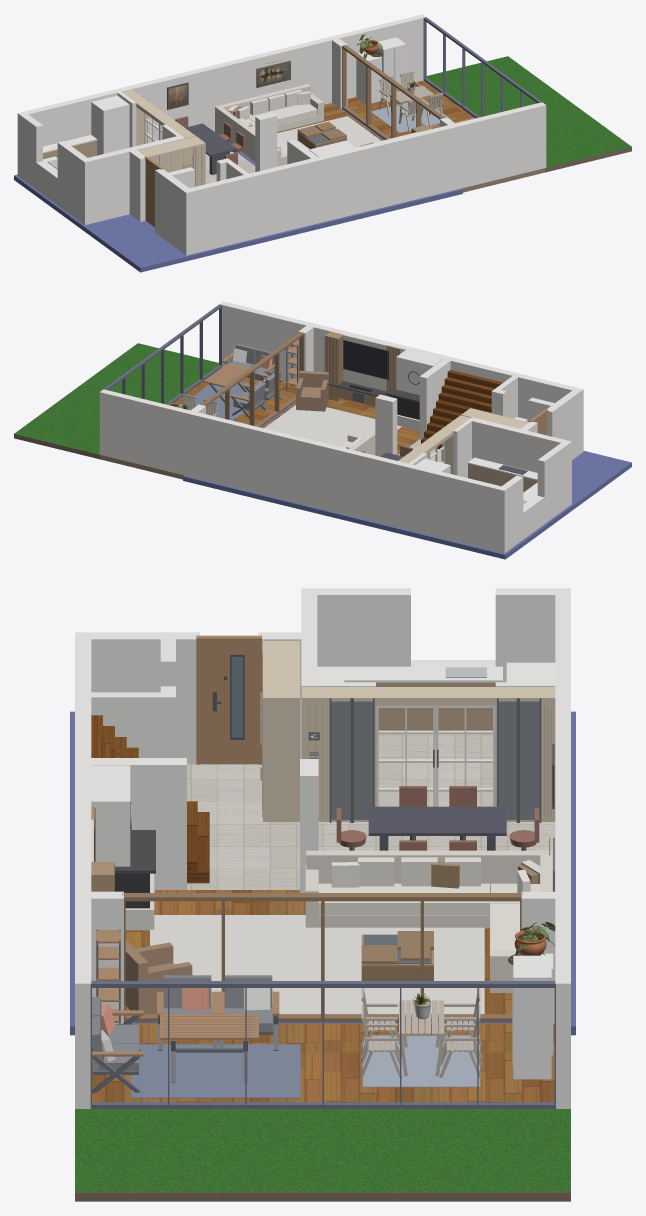
The picture shows the model from 3 angles, top to bottom: view 1: azimuth 30°, elevation 25°; view 2: azimuth 150°, elevation 25°; view 3: azimuth 270°, elevation 25°; orthographic projection. The views are drawn at different scales.
Parts seen in each view (by area): view 1: Mesh_17, Mesh_11, Mesh_10, Mesh_21, Mesh_0, Mesh_14, Mesh_20, Mesh_16, Mesh_13, Mesh_51, Mesh_358, Mesh_9 (+28 smaller); view 2: Mesh_11, Mesh_10, Mesh_20, Mesh_0, Mesh_21, Mesh_17, Mesh_14, Mesh_79, Mesh_13, Mesh_16, Mesh_12, Mesh_139 (+32 smaller); view 3: Mesh_10, Mesh_79, Mesh_9, Mesh_6, Mesh_152, Mesh_13, Mesh_16, Mesh_358, Mesh_5, Mesh_28, Mesh_352, Mesh_11 (+46 smaller).
Part boxes in pixels (x1,y1,x2,y2): Mesh_17: (184, 123, 458, 255); Mesh_11: (17, 35, 338, 178); Mesh_10: (426, 56, 631, 167); Mesh_21: (455, 102, 546, 188); Mesh_0: (14, 109, 462, 272); Mesh_14: (81, 135, 184, 224); Mesh_20: (336, 14, 425, 98); Mesh_16: (155, 169, 193, 255); Mesh_13: (57, 141, 91, 224); Mesh_51: (91, 95, 129, 155); Mesh_358: (138, 136, 205, 186); Mesh_9: (347, 80, 473, 137); Mesh_11: (186, 410, 508, 553); Mesh_10: (14, 343, 218, 454); Mesh_20: (99, 389, 190, 475); Mesh_0: (183, 402, 631, 559); Mesh_21: (220, 301, 309, 382); Mesh_17: (307, 322, 575, 421); Mesh_14: (468, 417, 568, 472); Mesh_79: (264, 405, 401, 446); Mesh_13: (537, 440, 571, 523); Mesh_16: (547, 387, 583, 459); Mesh_12: (497, 475, 523, 553); Mesh_139: (343, 340, 388, 379); Mesh_10: (75, 1109, 570, 1192); Mesh_79: (150, 915, 484, 1014); Mesh_9: (92, 1024, 554, 1102); Mesh_6: (187, 764, 299, 889); Mesh_152: (131, 1044, 300, 1098); Mesh_13: (301, 588, 410, 666); Mesh_16: (75, 632, 199, 764); Mesh_358: (263, 641, 299, 821); Mesh_5: (378, 734, 492, 806); Mesh_28: (91, 758, 186, 889); Mesh_352: (200, 644, 258, 764); Mesh_11: (555, 588, 570, 898).
Size of the model in its own units: 17.27 by 2.27 by 7.68.
Materials: 95 (14 with a texture image).
